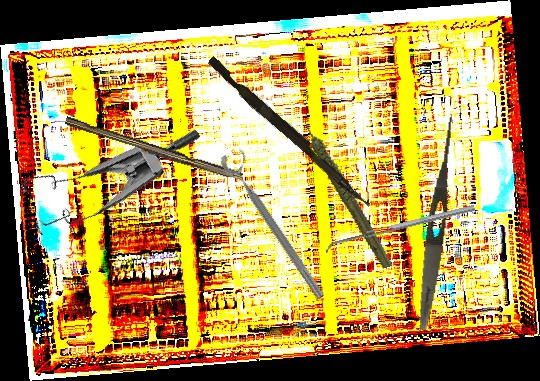Dressing Forceps: (413, 115, 460, 332)
Fixation Ring: (217, 144, 337, 303)
Handpiece: (300, 102, 394, 279)
Pusher: (203, 55, 377, 210)
Scalpel Handle: (62, 116, 245, 184)
Spatula Surgical: (323, 204, 477, 255)
Speculum: (6, 71, 202, 263)
